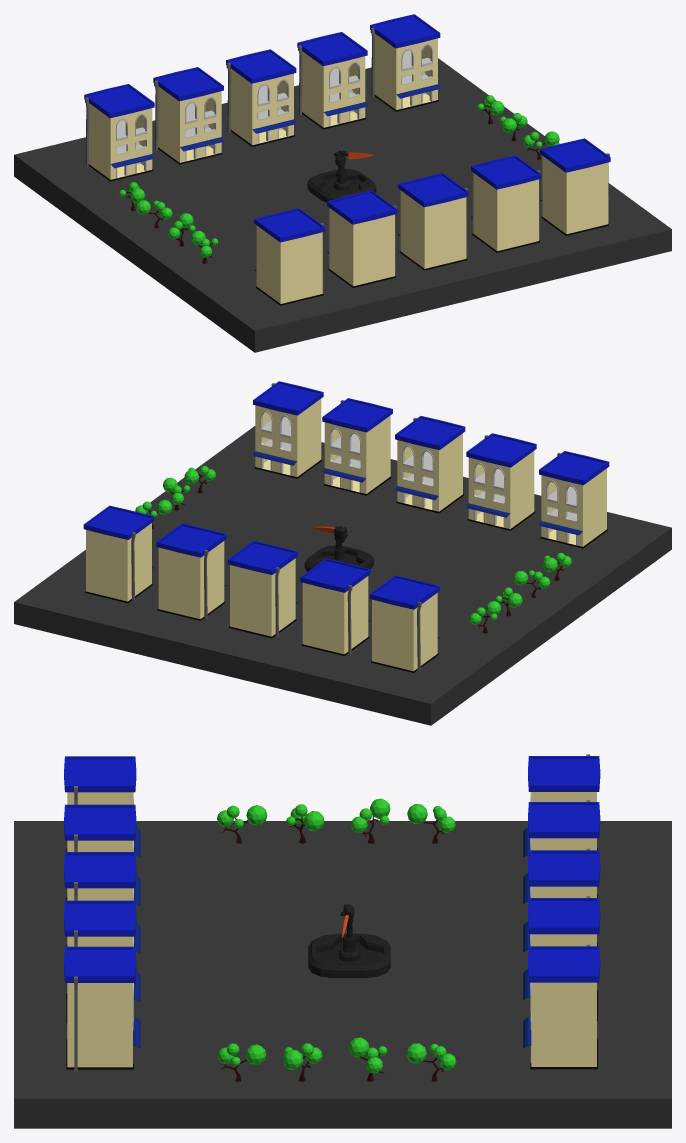
The model's file is IngameMap.fbx.
3 renders of one model, top to bottom at view 1: azimuth 30°, elevation 25°; view 2: azimuth 150°, elevation 25°; view 3: azimuth 270°, elevation 25°, orthographic. The views are drawn at different scales.
Parts seen in each view (by area): view 1: Floor, 3F_Build5, 3F_Build6, 3F_Build8, 3F_Build2, 3F_Build4, 3F_Build7, 3F_Build9, 3F_Build10, 3F_Build, 3F_Build3, Statue2; view 2: Floor, 3F_Build7, 3F_Build10, 3F_Build9, 3F_Build2, 3F_Build4, 3F_Build, 3F_Build6, 3F_Build8, 3F_Build3, 3F_Build5, Statue2; view 3: Floor, 3F_Build, 3F_Build10, 3F_Build2, Statue2, 3F_Build4, 3F_Build6, 3F_Build8, 3F_Build3, 3F_Build7, 3F_Build9, 3F_Build5 (+8 smaller).
Part boxes in pixels (x1=…): Floor: x1=14, y1=58, x2=671, y2=352; 3F_Build5: x1=84, y1=84, x2=154, y2=181; 3F_Build6: x1=254, y1=208, x2=324, y2=305; 3F_Build8: x1=398, y1=173, x2=468, y2=270; 3F_Build2: x1=297, y1=32, x2=367, y2=129; 3F_Build4: x1=153, y1=67, x2=223, y2=164; 3F_Build7: x1=327, y1=190, x2=397, y2=287; 3F_Build9: x1=471, y1=155, x2=541, y2=252; 3F_Build10: x1=540, y1=138, x2=610, y2=235; 3F_Build: x1=370, y1=14, x2=440, y2=111; 3F_Build3: x1=226, y1=49, x2=296, y2=146; Statue2: x1=307, y1=150, x2=376, y2=202; Floor: x1=14, y1=426, x2=671, y2=725; 3F_Build7: x1=466, y1=433, x2=536, y2=530; 3F_Build10: x1=253, y1=381, x2=323, y2=478; 3F_Build9: x1=322, y1=398, x2=392, y2=495; 3F_Build2: x1=156, y1=523, x2=226, y2=620; 3F_Build4: x1=300, y1=558, x2=370, y2=655; 3F_Build: x1=83, y1=505, x2=154, y2=603; 3F_Build6: x1=539, y1=451, x2=609, y2=548; 3F_Build8: x1=395, y1=416, x2=465, y2=513; 3F_Build3: x1=227, y1=540, x2=297, y2=638; 3F_Build5: x1=369, y1=575, x2=439, y2=672; Statue2: x1=304, y1=526, x2=373, y2=571; Floor: x1=14, y1=821, x2=671, y2=1128; 3F_Build: x1=523, y1=944, x2=600, y2=1069; 3F_Build10: x1=64, y1=946, x2=140, y2=1071; 3F_Build2: x1=523, y1=896, x2=600, y2=1020; Statue2: x1=308, y1=904, x2=390, y2=977; 3F_Build4: x1=523, y1=800, x2=600, y2=903; 3F_Build6: x1=64, y1=756, x2=140, y2=857; 3F_Build8: x1=64, y1=852, x2=140, y2=953; 3F_Build3: x1=523, y1=848, x2=600, y2=951; 3F_Build7: x1=64, y1=804, x2=140, y2=906; 3F_Build9: x1=64, y1=900, x2=140, y2=1023; 3F_Build5: x1=523, y1=754, x2=600, y2=857.
Size of what is drawn, in the model's own units: 10000 by 10000 by 2076.
